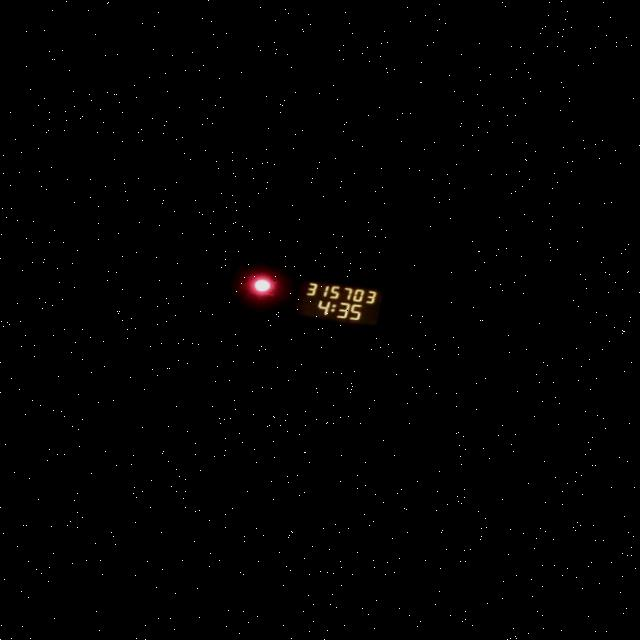odometer: (292, 276, 385, 328)
